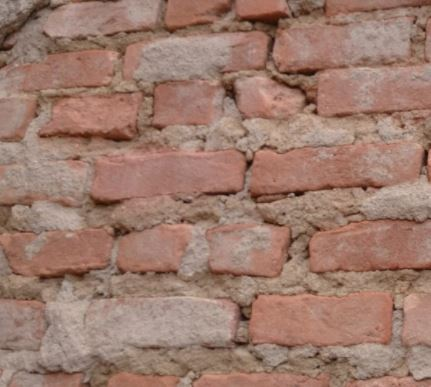brick: (248, 290, 395, 343), (256, 146, 422, 191), (94, 152, 244, 201), (89, 298, 237, 347), (319, 66, 431, 117), (312, 222, 429, 267), (278, 28, 412, 64), (8, 228, 109, 273), (127, 39, 258, 72), (51, 94, 139, 138), (1, 159, 89, 202), (115, 228, 196, 272), (211, 226, 288, 272), (25, 51, 116, 89), (150, 82, 225, 126), (50, 6, 156, 31), (235, 79, 301, 116), (1, 298, 44, 347), (198, 373, 332, 387), (403, 292, 431, 345), (167, 1, 225, 26), (1, 93, 31, 141), (16, 369, 82, 387), (105, 372, 184, 387), (238, 1, 292, 16)
